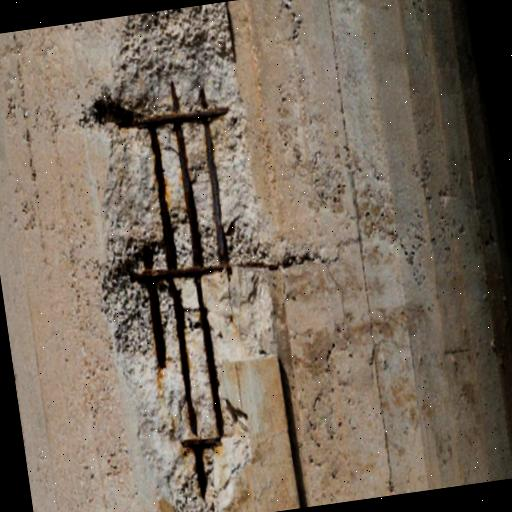spalling: (65, 0, 325, 512)
